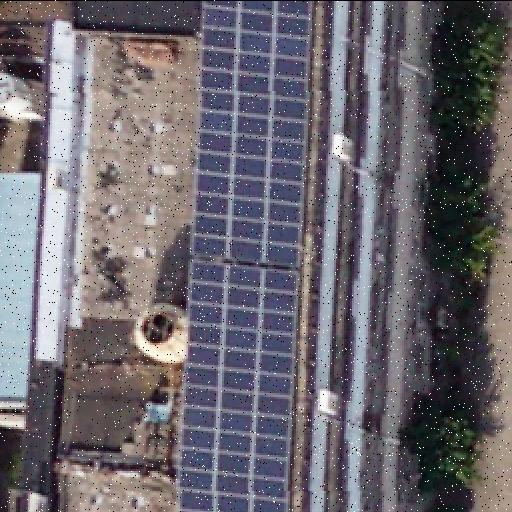solar-panel: (193, 0, 311, 264), (181, 260, 299, 512)
